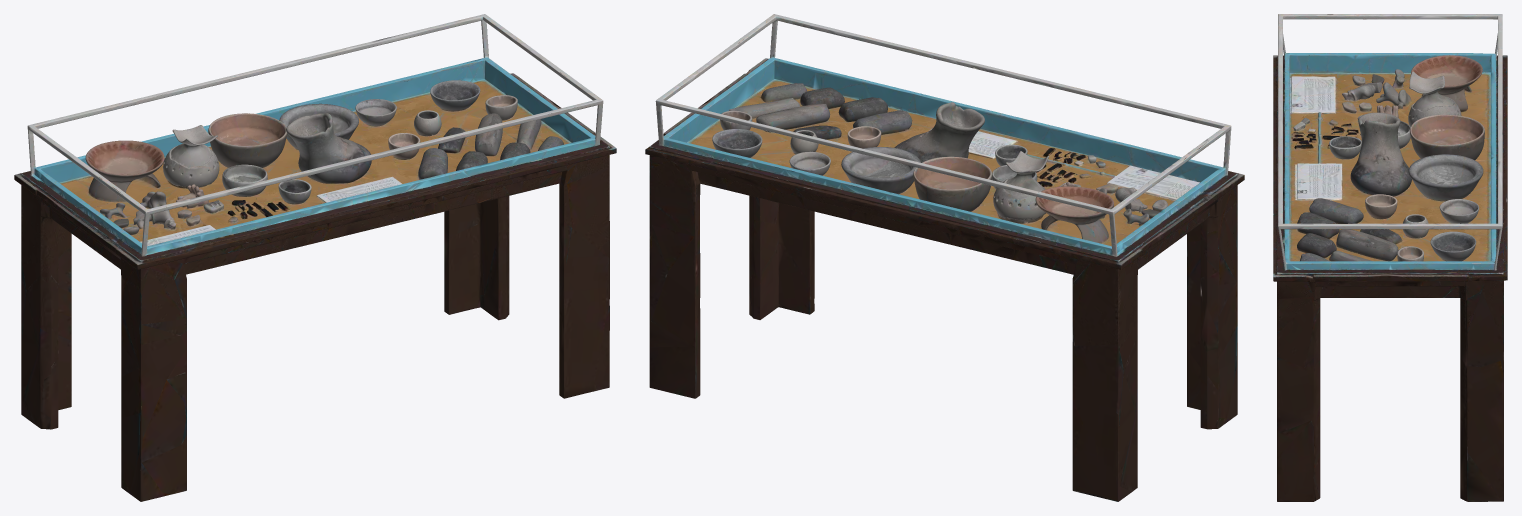
3 views of the same model, side by side, from view 1: azimuth 30°, elevation 25°; view 2: azimuth 150°, elevation 25°; view 3: azimuth 270°, elevation 25° (orthographic). The views are drawn at different scales.
Parts seen in each view (by area): view 1: Mesh_0; view 2: Mesh_0; view 3: Mesh_0.
Boxes of the visible parts, x1=… form: Mesh_0: x1=14, y1=14, x2=616, y2=501; Mesh_0: x1=645, y1=14, x2=1244, y2=501; Mesh_0: x1=1273, y1=14, x2=1507, y2=501.
Bounding box in the file's own units: 1.9 × 1.1 × 0.8503.
Materials: 1 (1 with a texture image).
